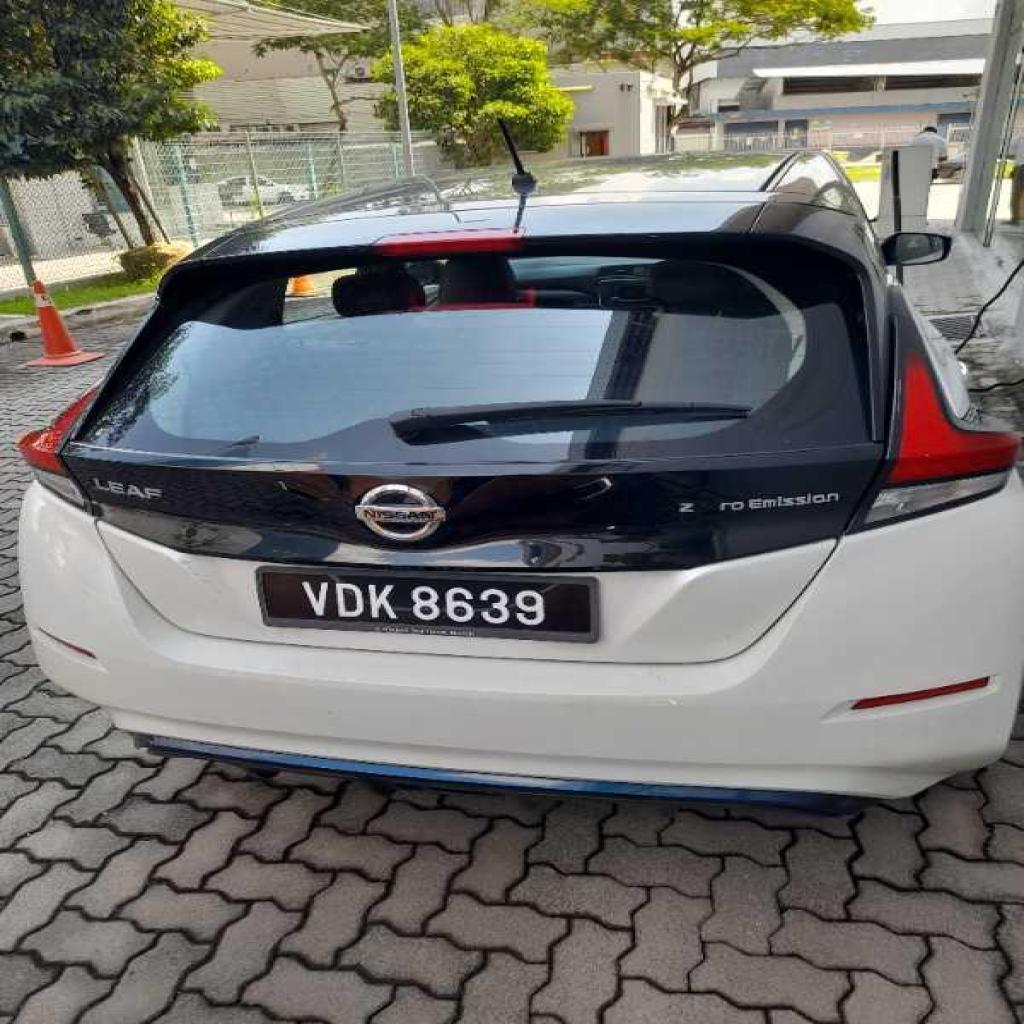car: (17, 154, 1021, 804)
car plate: (258, 566, 596, 641)
